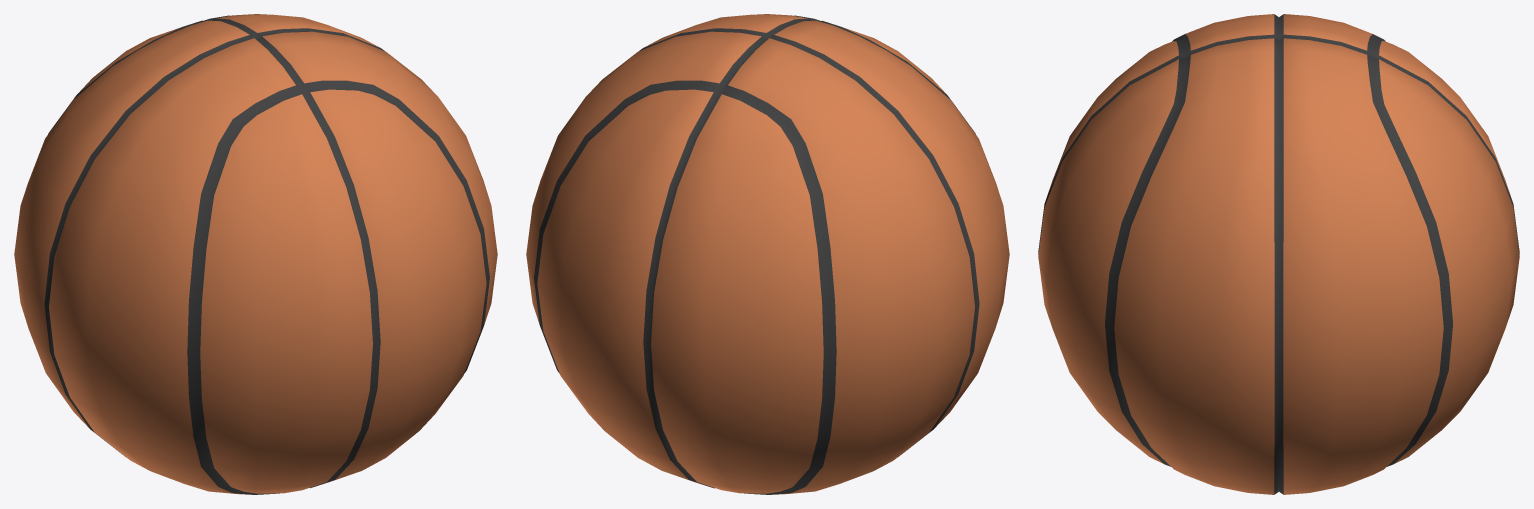
File: Basketball.fbx
3 renders of one model, left to right at view 1: azimuth 30°, elevation 25°; view 2: azimuth 150°, elevation 25°; view 3: azimuth 270°, elevation 25°, orthographic.
Visible parts, largest first — view 1: Basketball; view 2: Basketball; view 3: Basketball.
Part boxes in pixels (x1,y1,x2,y2): Basketball: (14, 14, 497, 494); Basketball: (526, 14, 1009, 494); Basketball: (1038, 14, 1519, 494).
Bounding box in the file's own units: 194 × 194 × 194.
